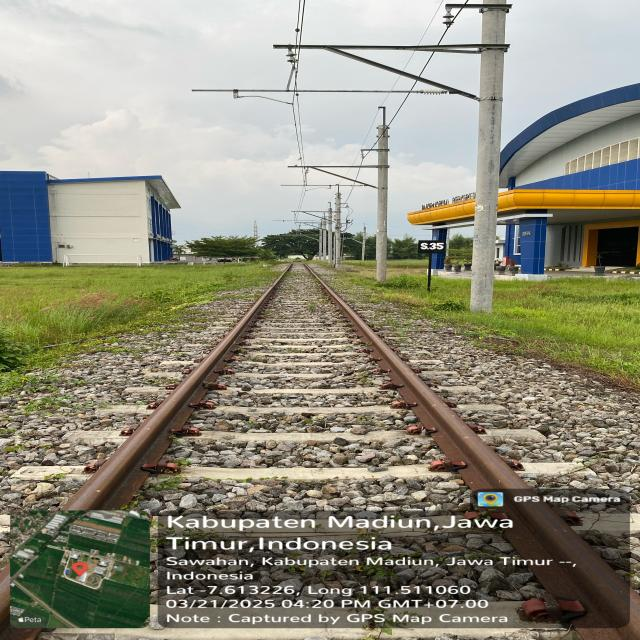rail-detection: (305, 264, 633, 628), (62, 265, 290, 510)
